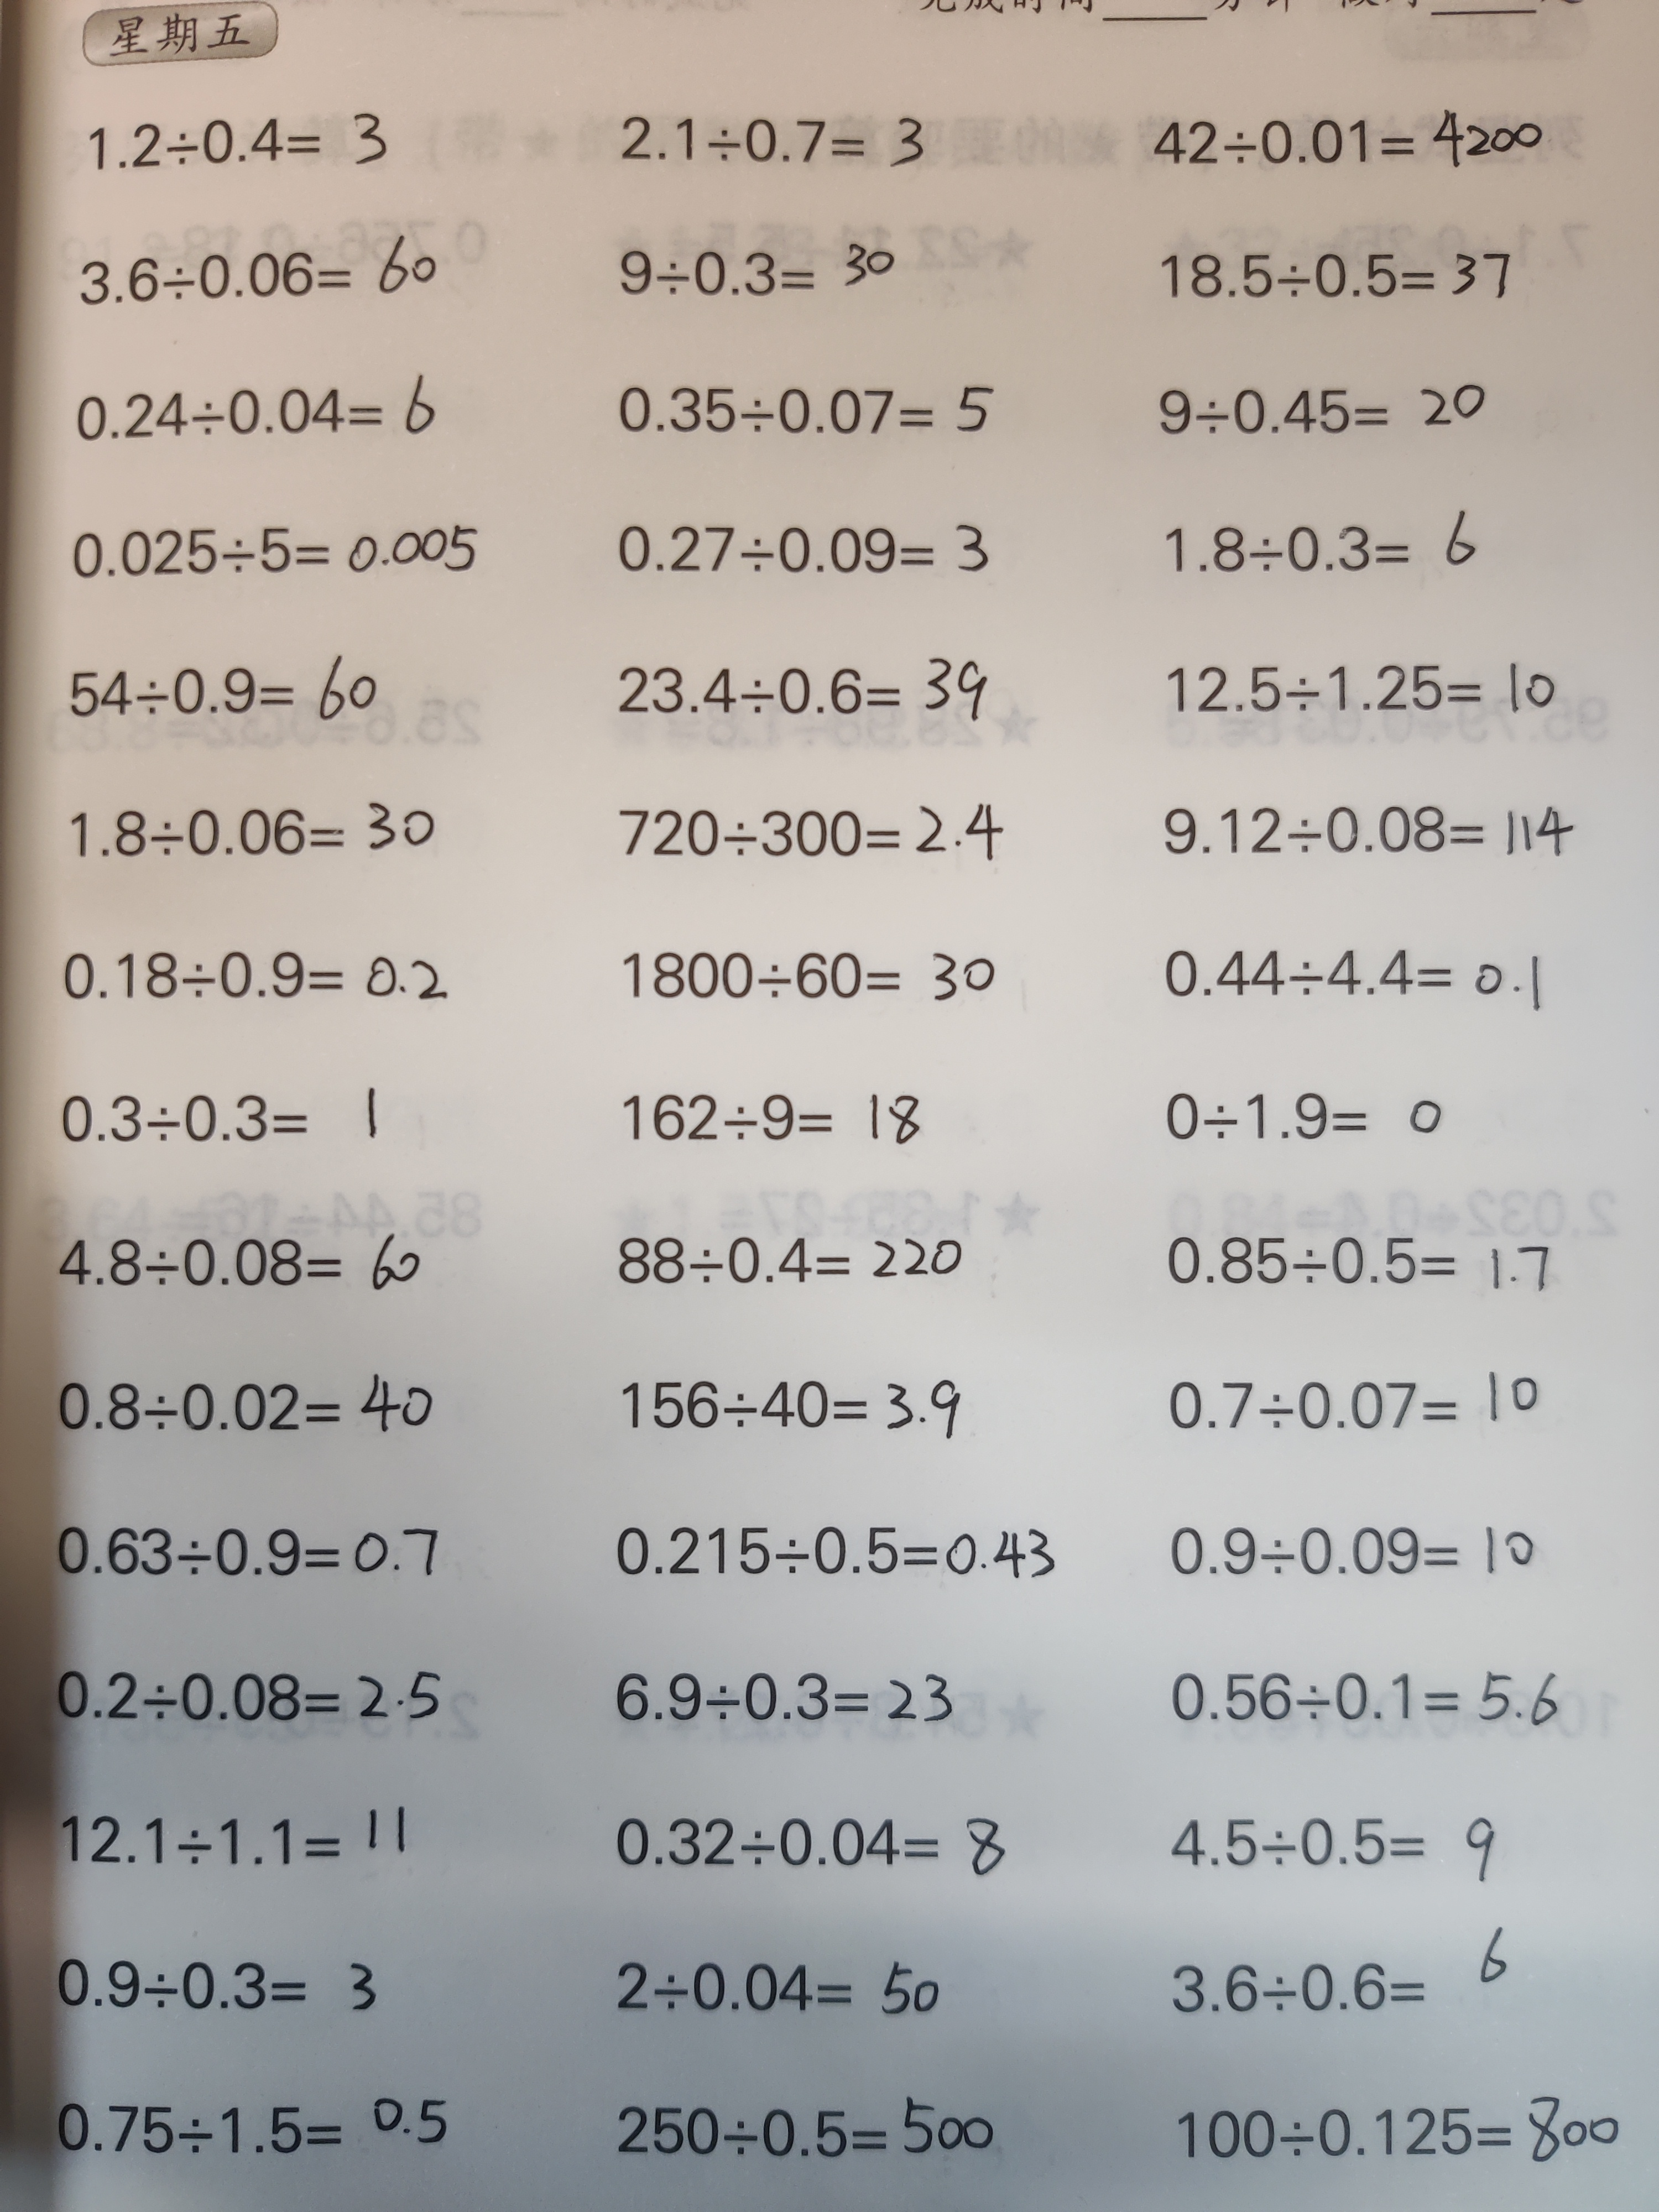equation: (49, 1637, 451, 1763), (28, 1487, 453, 1604), (586, 1496, 1068, 1599), (1175, 2069, 1633, 2174), (1164, 1916, 1535, 2041), (1161, 1644, 1567, 1756), (599, 923, 1012, 1031), (61, 766, 455, 878), (59, 500, 497, 599), (1141, 1219, 1567, 1320), (54, 923, 477, 1024), (591, 772, 1006, 874), (1134, 226, 1528, 334), (49, 359, 453, 463), (603, 650, 1018, 751), (40, 1359, 460, 1458), (599, 362, 1009, 463), (592, 1639, 979, 1745), (591, 2078, 1011, 2175), (598, 1796, 1025, 1892), (52, 2078, 479, 2174), (52, 1209, 429, 1317), (1145, 934, 1547, 1033), (1141, 782, 1579, 873), (615, 1928, 958, 2043), (49, 627, 403, 738), (52, 1791, 420, 1897), (1143, 643, 1563, 735), (1148, 1500, 1544, 1597), (606, 507, 1006, 601), (1143, 354, 1490, 462), (71, 89, 397, 200), (1145, 89, 1551, 178), (1157, 1364, 1561, 1453), (594, 1357, 979, 1449), (61, 226, 451, 315), (52, 1928, 389, 2031), (59, 1061, 410, 1157), (1161, 1796, 1521, 1888), (1126, 505, 1480, 599), (606, 1221, 979, 1310), (617, 1075, 934, 1176), (603, 99, 934, 192), (1136, 1075, 1453, 1167), (606, 226, 913, 317)
